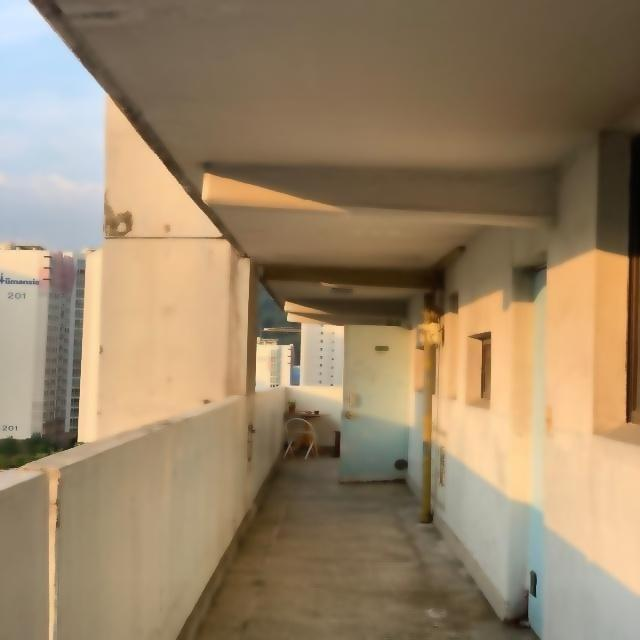door: (337, 323, 413, 483)
